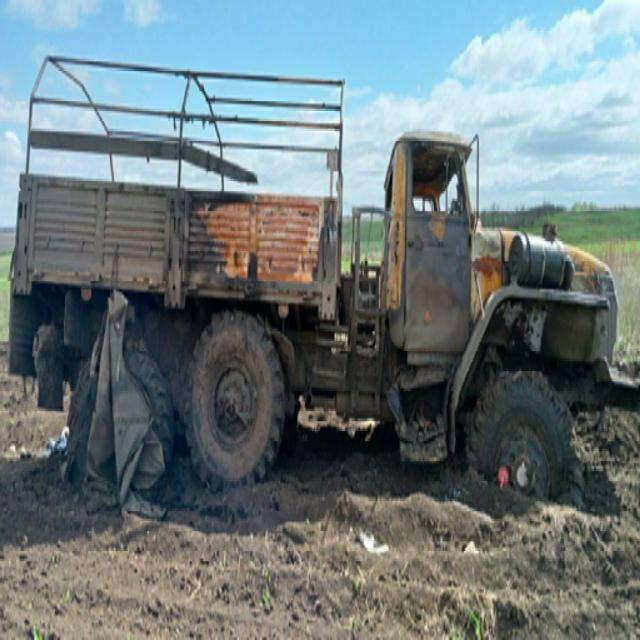TRUCK: (0, 51, 621, 530)
